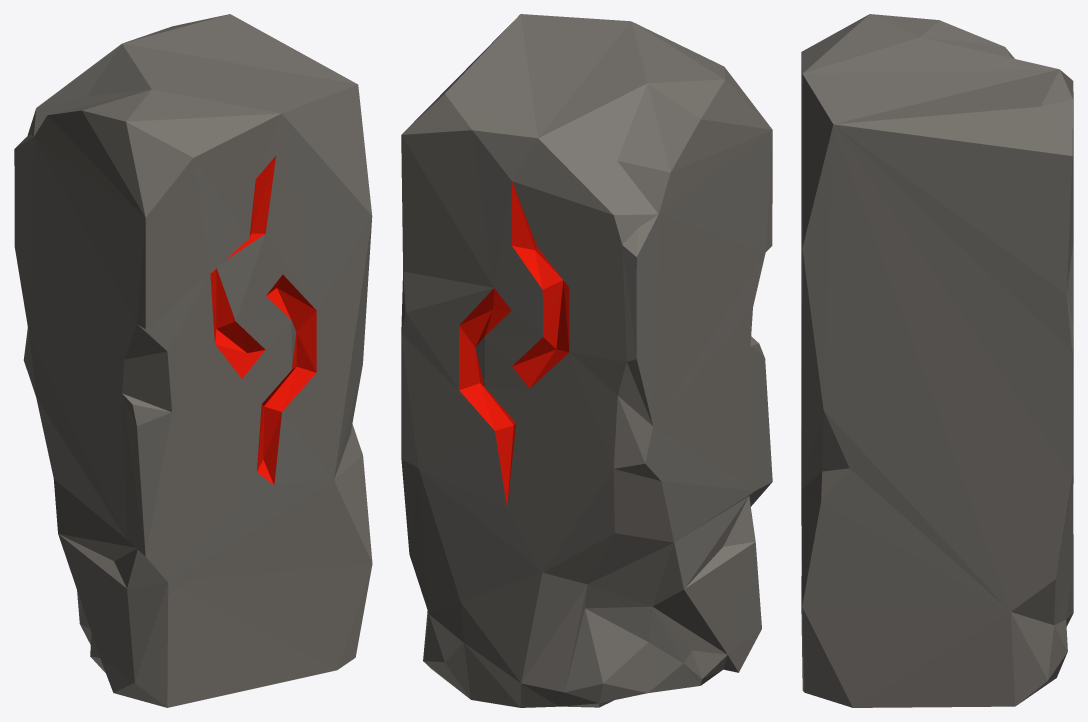
The model's file is SM_Env_Rune_Pillar_05.fbx.
3 renders of one model, left to right at view 1: azimuth 30°, elevation 25°; view 2: azimuth 150°, elevation 25°; view 3: azimuth 270°, elevation 25°, orthographic. The views are drawn at different scales.
Visible parts, largest first — view 1: SM_Env_Rune_Pillar_05; view 2: SM_Env_Rune_Pillar_05; view 3: SM_Env_Rune_Pillar_05.
Part boxes in pixels (x1,y1,x2,y2): SM_Env_Rune_Pillar_05: (14,14,372,707); SM_Env_Rune_Pillar_05: (401,14,772,707); SM_Env_Rune_Pillar_05: (801,14,1073,707).
Size of the model in its own units: 1 by 2.38 by 1.
